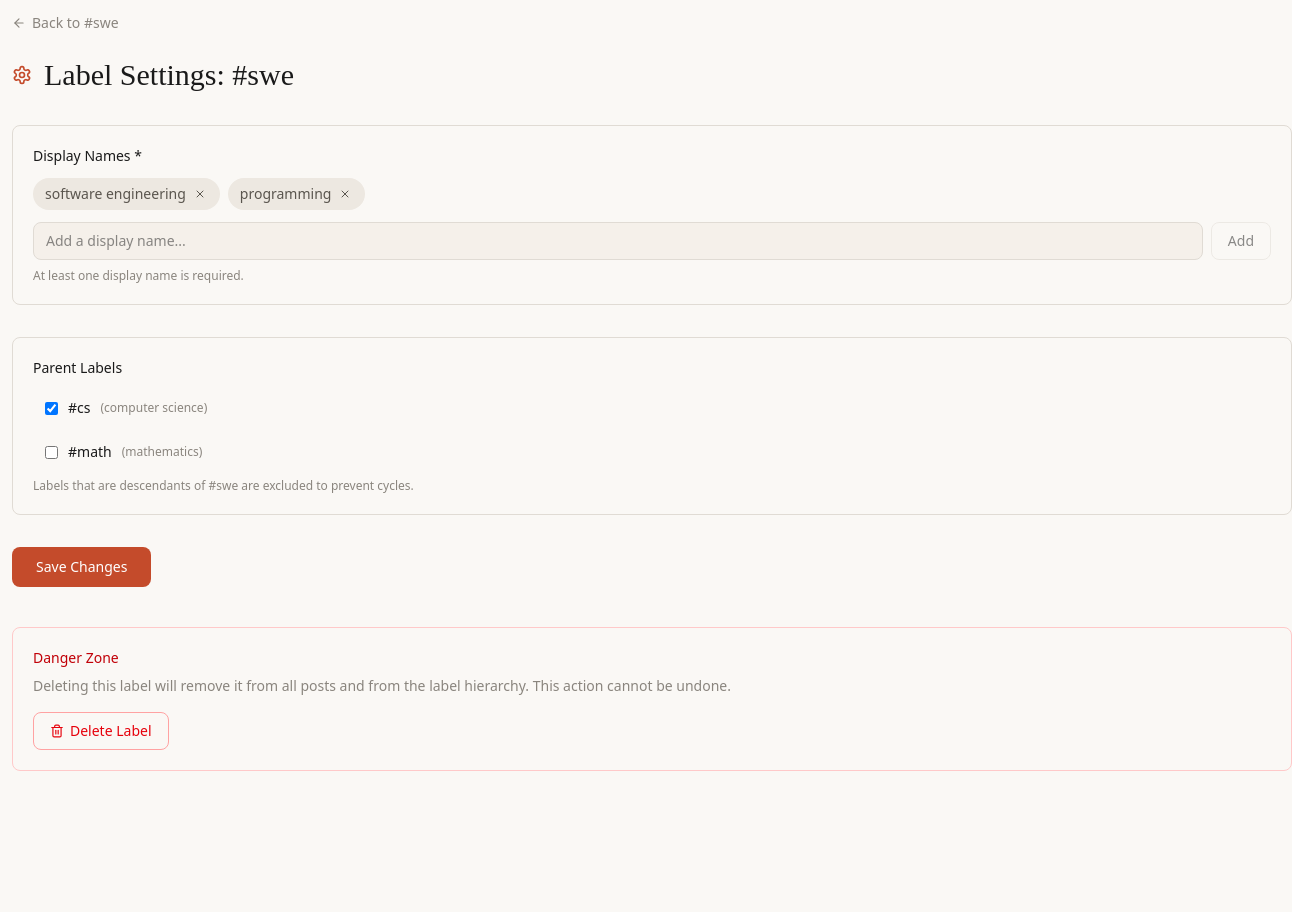
Test: LabelSettingsPage › adds a name
This screenshot has width=1292, height=912.
expect the text "software engineering" is shown: met, box [33,178,220,210]
Step 1. Type "coding" into the field with placeholder "Add a display name..." → [618, 241], box [33,222,1203,260]
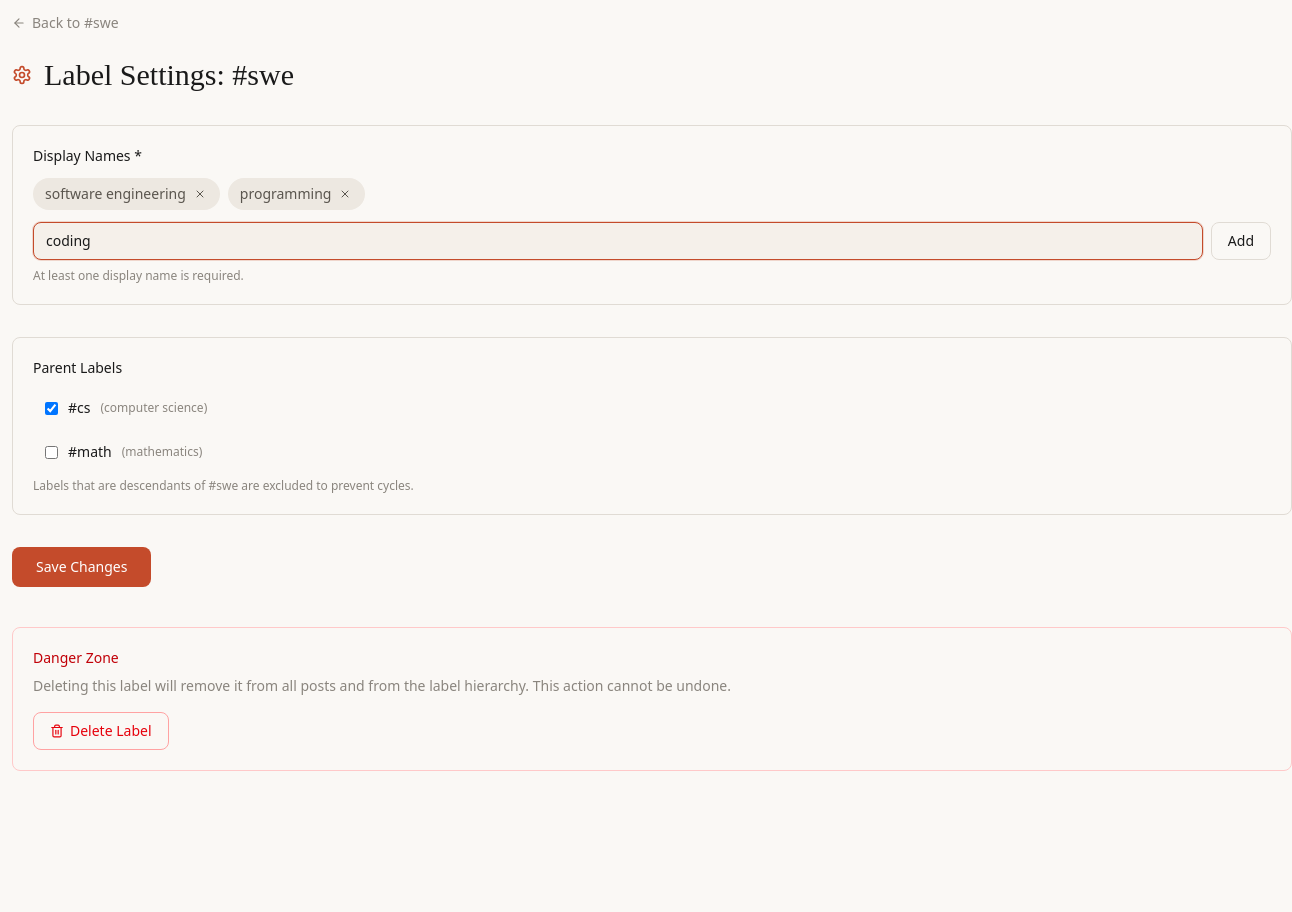
Step 2. Click the button "Add" → [1241, 241], box [1211,222,1271,260]
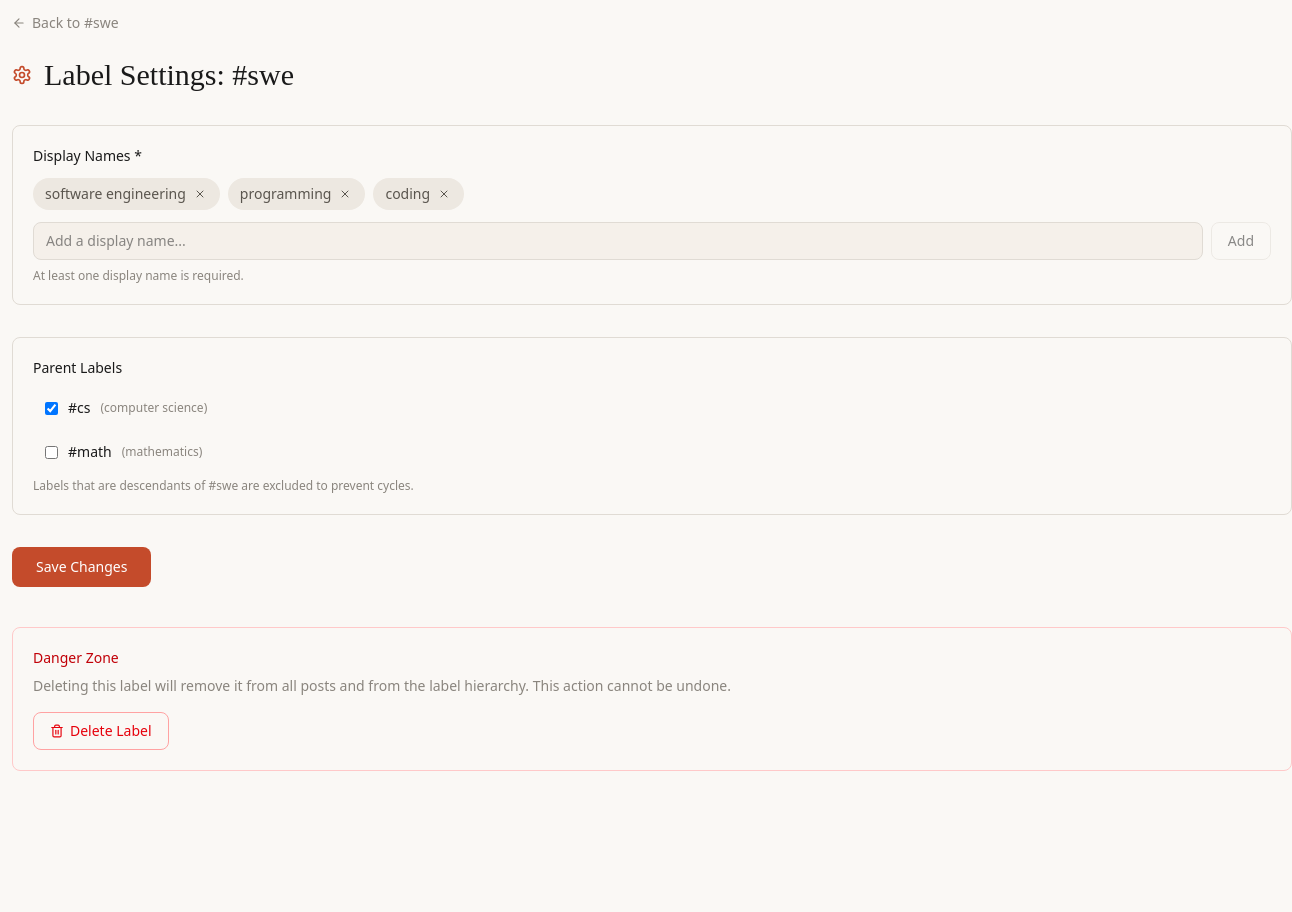
expect the text "coding" is shown: met, box [373,178,464,210]
